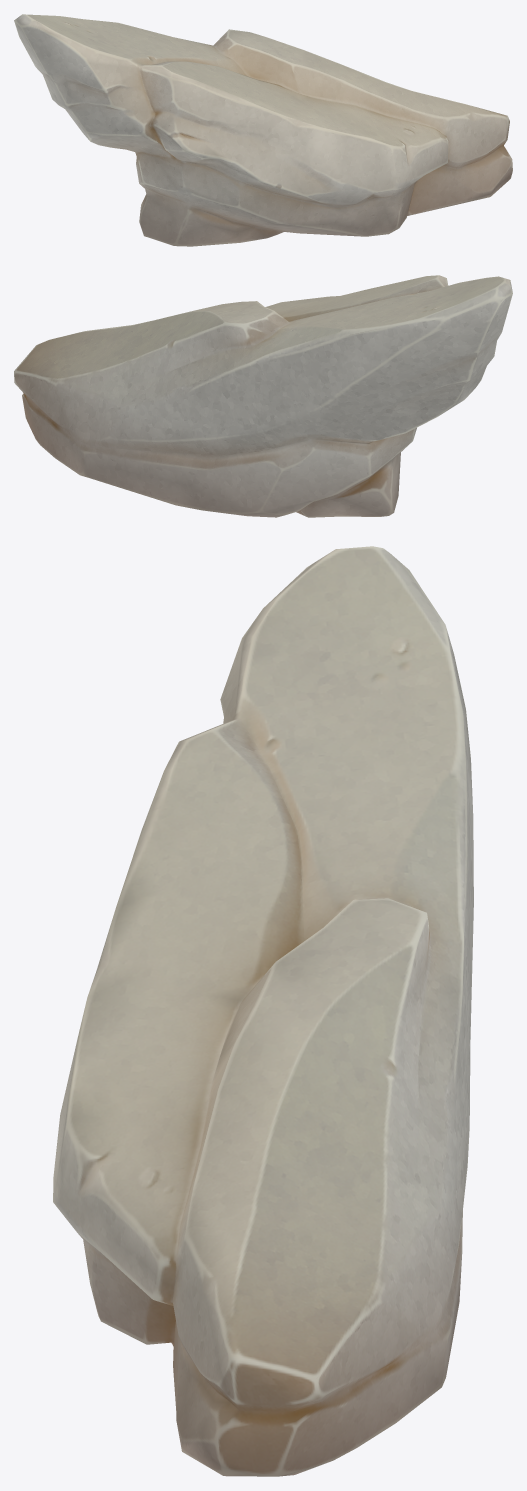
Rendered from rock2.glb.
The picture shows the model from 3 angles, top to bottom: view 1: azimuth 30°, elevation 25°; view 2: azimuth 150°, elevation 25°; view 3: azimuth 270°, elevation 25°; orthographic projection. The views are drawn at different scales.
Visible parts, largest first — view 1: Rock2; view 2: Rock2; view 3: Rock2.
Boxes of the visible parts, x1=… form: Rock2: x1=14, y1=14, x2=512, y2=246; Rock2: x1=14, y1=275, x2=512, y2=517; Rock2: x1=53, y1=546, x2=473, y2=1476.
Bounding box in the file's own units: 3.6 × 1.88 × 1.43.
1 material, 1 textured.
